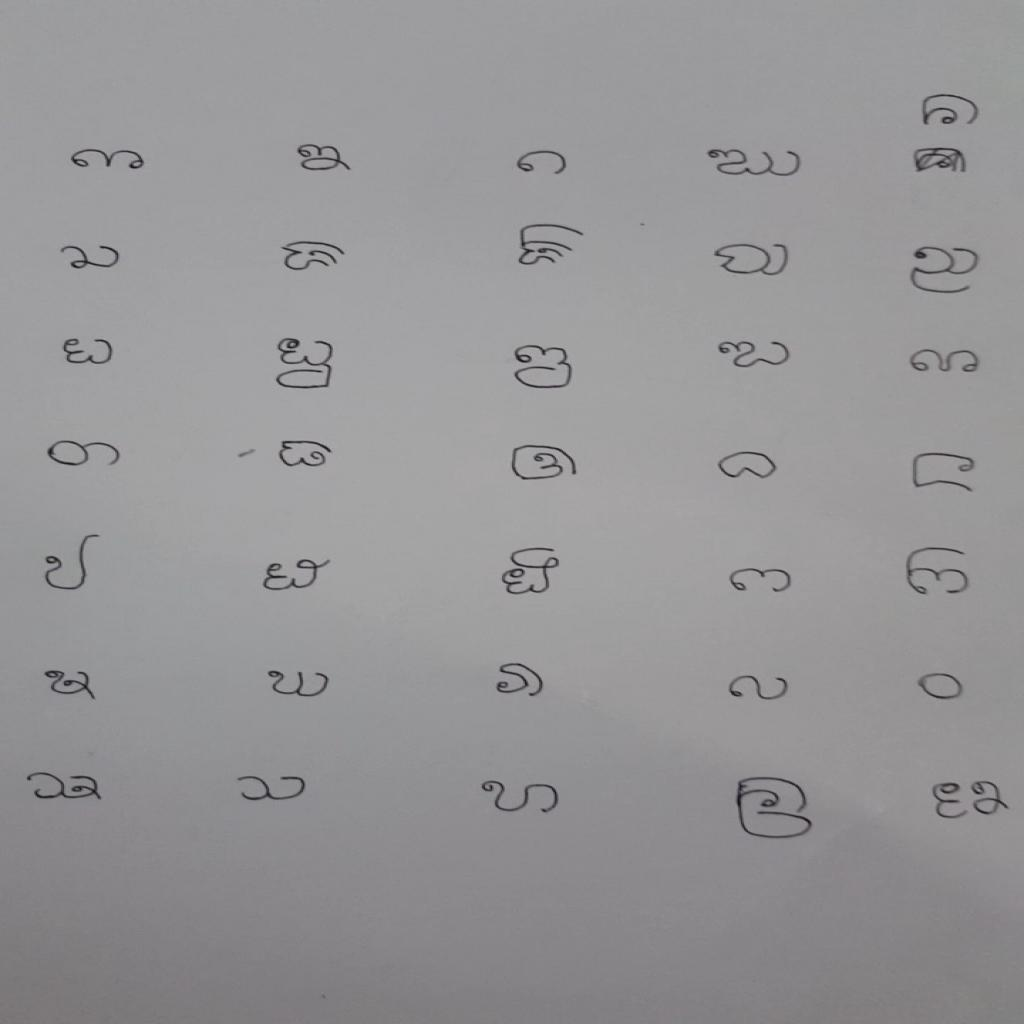LN001: (66, 146, 152, 175)
LN002: (293, 142, 359, 176)
LN003: (512, 149, 574, 178)
LN004: (703, 147, 809, 181)
LN005: (916, 93, 986, 131)
LN007: (54, 241, 127, 274)
LN008: (277, 238, 352, 275)
LN009: (513, 221, 592, 269)
LN010: (710, 241, 797, 280)
LN011: (906, 244, 987, 298)
LN013: (58, 336, 121, 369)
LN014: (272, 336, 342, 394)
LN015: (508, 343, 581, 393)
LN016: (714, 339, 797, 372)
LN017: (905, 346, 988, 377)
LN019: (43, 437, 127, 471)
LN020: (275, 438, 341, 473)
LN021: (505, 442, 585, 486)
LN022: (714, 449, 786, 483)
LN023: (906, 450, 983, 497)
LN025: (39, 531, 109, 595)
LN026: (259, 556, 337, 594)
LN027: (498, 545, 565, 599)
LN028: (725, 566, 799, 597)
LN029: (901, 545, 977, 600)
LN031: (41, 668, 103, 704)
LN032: (262, 668, 337, 701)
LN033: (488, 660, 551, 702)
LN034: (724, 673, 797, 705)
LN035: (913, 671, 971, 704)
LN037: (21, 769, 112, 806)
LN038: (232, 773, 315, 806)
LN039: (477, 778, 567, 818)
LN040: (729, 775, 819, 844)
LN041: (928, 779, 1015, 823)
